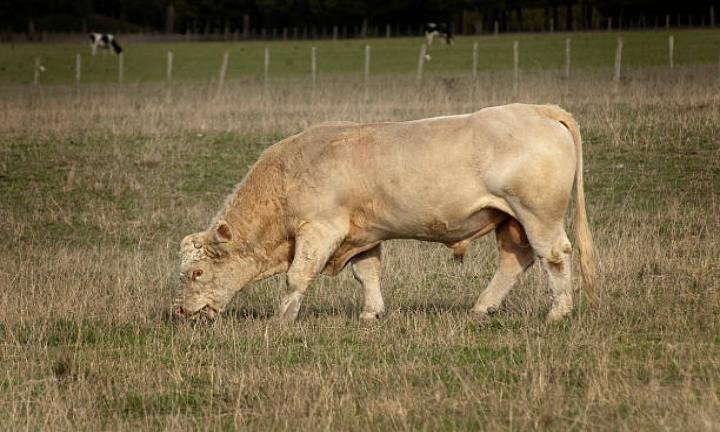Charolais: (174, 104, 594, 318)
